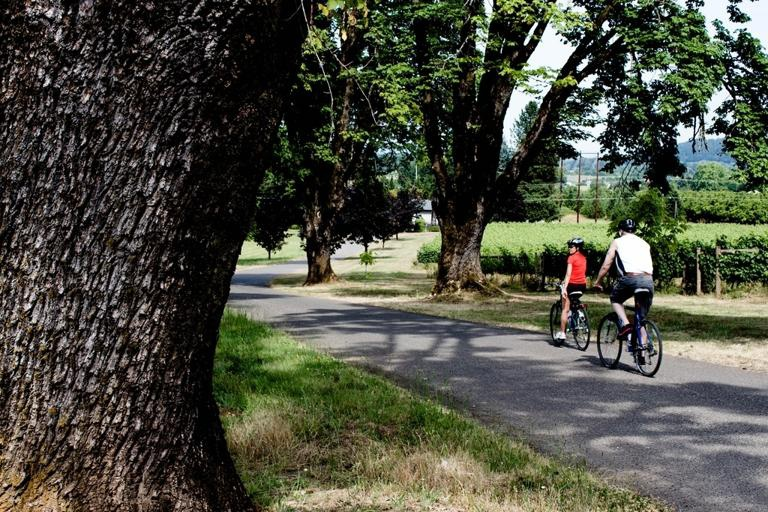non-vehicle: (591, 284, 662, 376), (548, 281, 590, 350)
